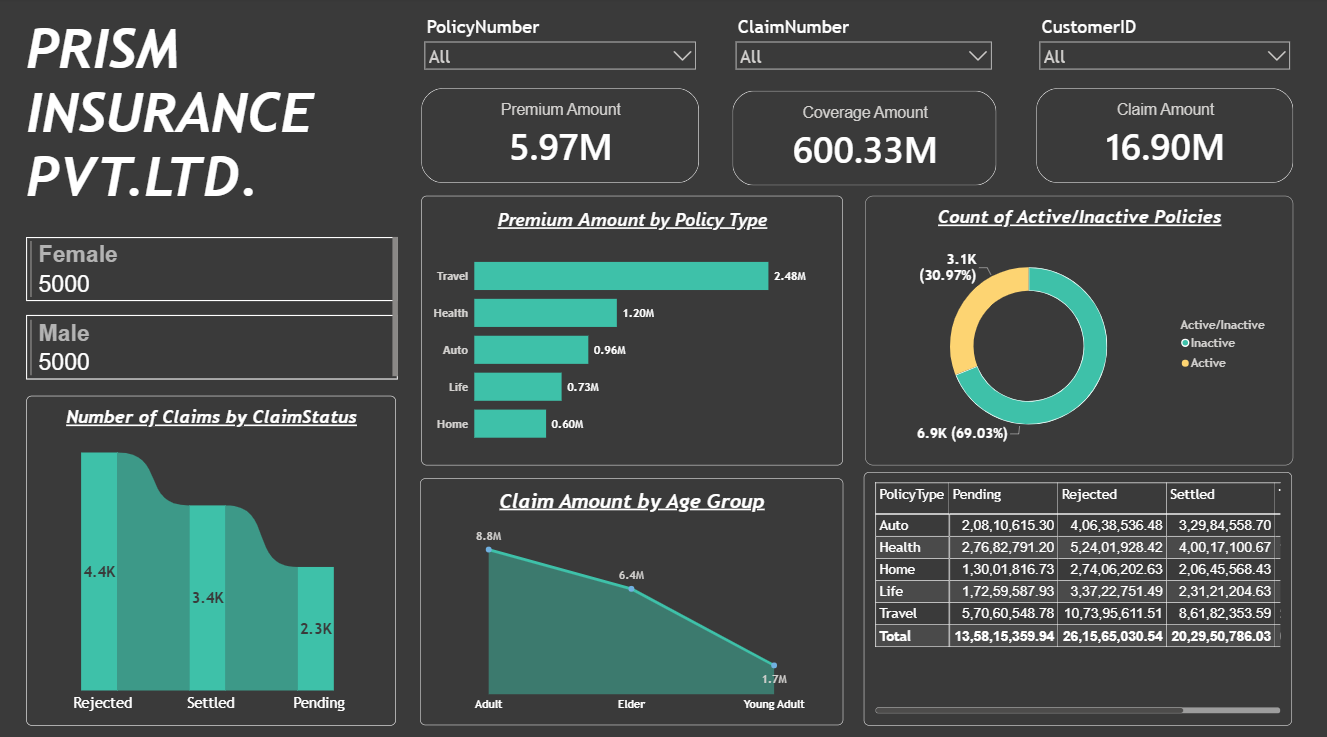

The page's visual inventory and layout, read from the dashboard file:
{"tool":"powerbi","page":{"name":"Page 1","canvas":[1920,1080],"ordinal":0},"visuals":[{"type":"slicer","fields":{"Values":["InsuranceData1.PolicyNumber"]},"box":[610,27.5,402.5,130],"z":0},{"type":"textbox","box":[37.5,27.5,535,305],"z":1000},{"type":"cardVisual","fields":{"Data":["Sum(InsuranceData1.PremiumAmount)"]},"box":[610,132.5,402.5,137.5],"z":2000},{"type":"cardVisual","fields":{"Data":["Sum(InsuranceData1.CoverageAmount)"]},"box":[1060,135,382.5,137.5],"z":3000},{"type":"cardVisual","fields":{"Data":["Sum(InsuranceData1.ClaimAmount)"]},"box":[1500,132.5,372.5,137.5],"z":4000},{"type":"slicer","fields":{"Values":["InsuranceData1.ClaimNumber"]},"box":[1060,27.5,380,105],"z":5000},{"type":"slicer","fields":{"Values":["InsuranceData1.CustomerID"]},"box":[1500,27.5,372.5,105],"z":6000},{"type":"multiRowCard","fields":{"Values":["InsuranceData1.Gender","CountNonNull(InsuranceData1.Gender)"]},"box":[22.5,332.5,570,245],"z":7000},{"type":"ribbonChart","title":"Number of Claims by ClaimStatus","fields":{"Category":["InsuranceData1.ClaimStatus"],"Y":["CountNonNull(InsuranceData1.ClaimStatus)"]},"box":[37.5,577.5,535,477.5],"z":8000},{"type":"barChart","title":" Premium Amount by Policy Type","fields":{"Category":["InsuranceData1.PolicyType"],"Y":["Sum(InsuranceData1.PremiumAmount)"]},"box":[610,287.5,610,390],"z":9000},{"type":"lineChart","title":" Claim Amount by Age Group","fields":{"Category":["InsuranceData1.Age Group"],"Y":["Sum(InsuranceData1.ClaimAmount)"]},"box":[607.5,697.5,612.5,357.5],"z":9001},{"type":"donutChart","title":"Count of Active/Inactive Policies","fields":{"Category":["InsuranceData1.Status"],"Y":["CountNonNull(InsuranceData1.Status)"]},"box":[1252.5,287.5,620,390],"z":9002},{"type":"pivotTable","fields":{"Columns":["InsuranceData1.ClaimStatus"],"Rows":["InsuranceData1.PolicyType"],"Values":["Sum(InsuranceData1.CoverageAmount)"]},"box":[1250,687.5,620,367],"z":9003}]}

Visuals, with their boxes in screenshot pixels (x1, y1, x2, y2), scaled from the page's 1920x1080 canvas onto the 1327x737 screenshot:
slicer - InsuranceData1.PolicyNumber: [422,19,700,107]
textbox: [26,19,396,227]
cardVisual - Sum(InsuranceData1.PremiumAmount): [422,90,700,184]
cardVisual - Sum(InsuranceData1.CoverageAmount): [733,92,997,186]
cardVisual - Sum(InsuranceData1.ClaimAmount): [1037,90,1294,184]
slicer - InsuranceData1.ClaimNumber: [733,19,995,90]
slicer - InsuranceData1.CustomerID: [1037,19,1294,90]
multiRowCard - InsuranceData1.Gender x CountNonNull(InsuranceData1.Gender): [16,227,410,394]
"Number of Claims by ClaimStatus" ribbonChart: [26,394,396,720]
" Premium Amount by Policy Type" barChart: [422,196,843,462]
" Claim Amount by Age Group" lineChart: [420,476,843,720]
"Count of Active/Inactive Policies" donutChart: [866,196,1294,462]
pivotTable - InsuranceData1.ClaimStatus x InsuranceData1.PolicyType: [864,469,1292,720]
